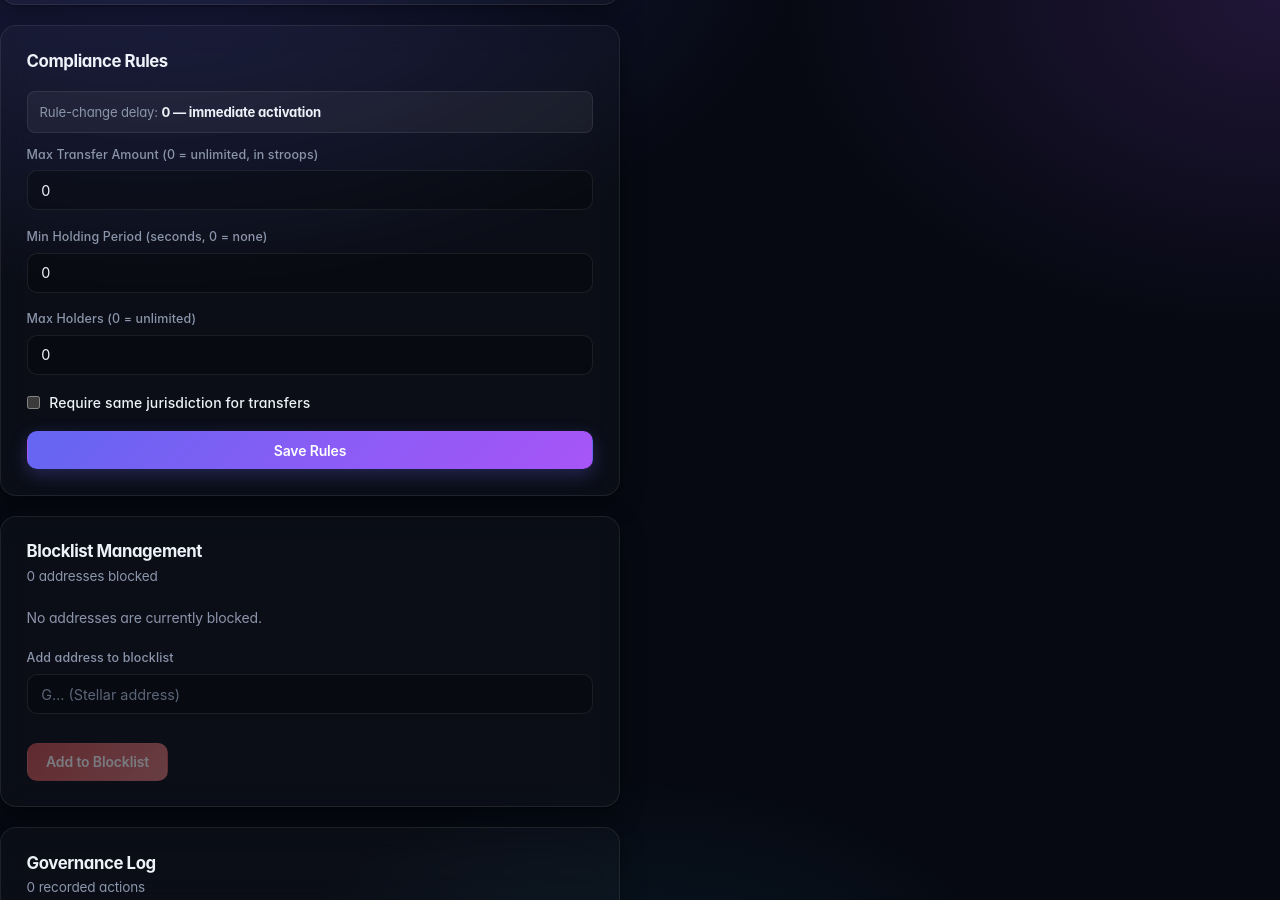
AdminPage – compliance rules form › confirmation dialog contains max transfer and holding period details
(page scrolled)
Step 1. Click the button "Save Rules" → (310, 450), box [27,431,593,469]
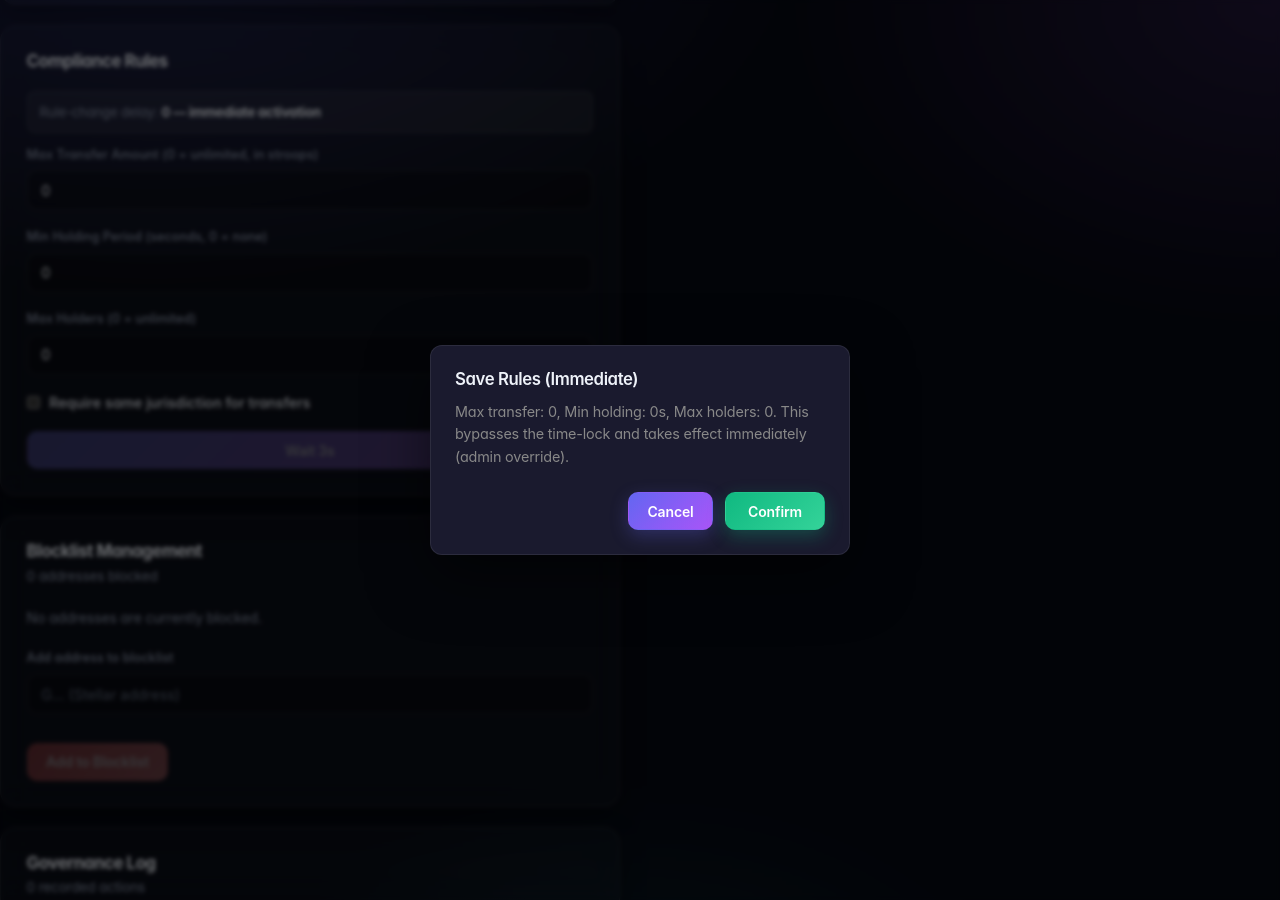
Now the dialog is shown
Now the text "Min holding" is shown, box [455,403,809,465]
